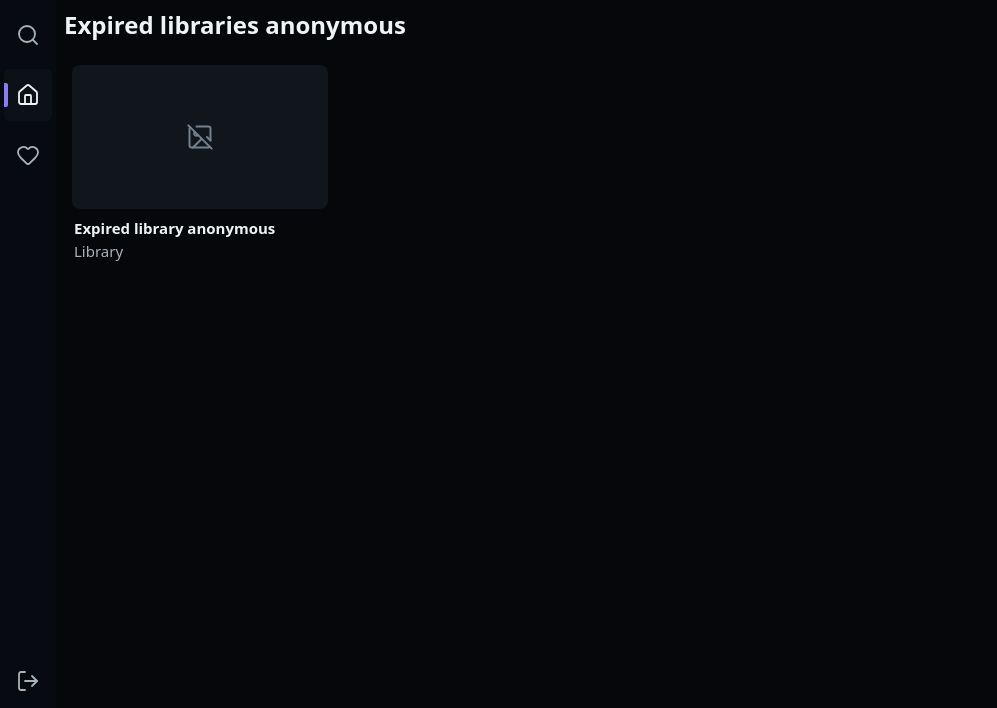
Test: App browse route integration › returns to login and clears browse focus state when a library page receives 401
What coordinates should you click on to do the following:
click the button with aria-label "Open Expired library anonymous"
I would click on:
 (200, 163)
Its box is [64,57,336,269].
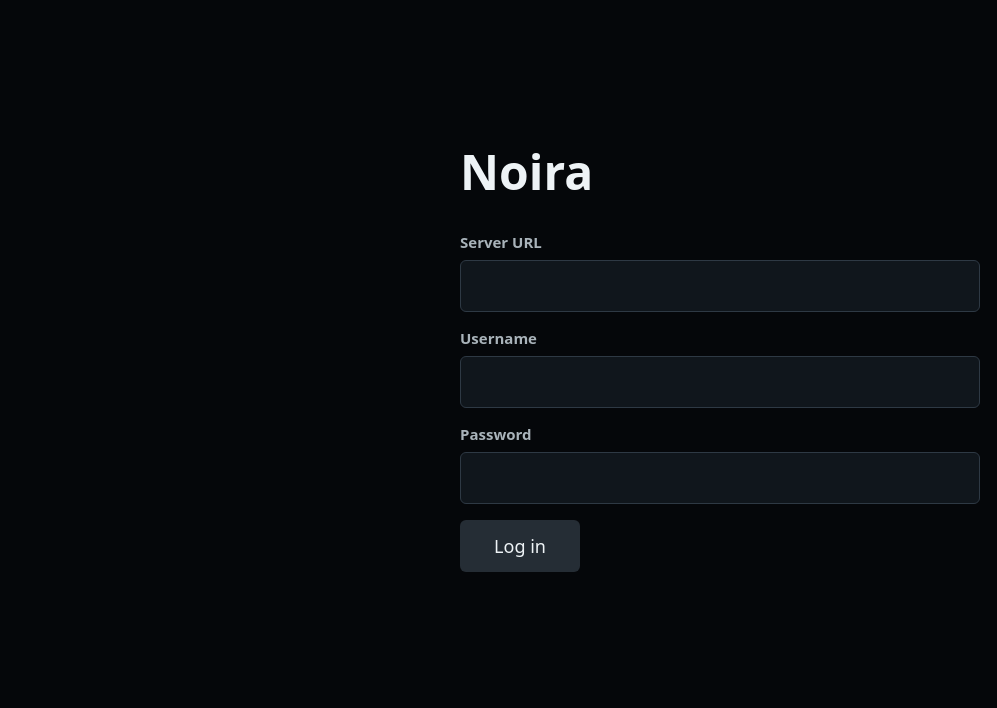
Check: the field labelled "Server URL" is shown, box [460,260,980,312]
Check: the button "Expired library anonymous" is gone
